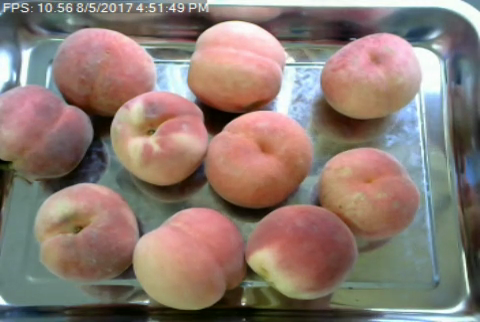Peach: (135, 206, 243, 310), (245, 203, 356, 301), (34, 182, 139, 284), (205, 110, 309, 207), (316, 146, 420, 241), (108, 88, 208, 185), (187, 18, 286, 113), (317, 31, 420, 121), (52, 26, 156, 115)
